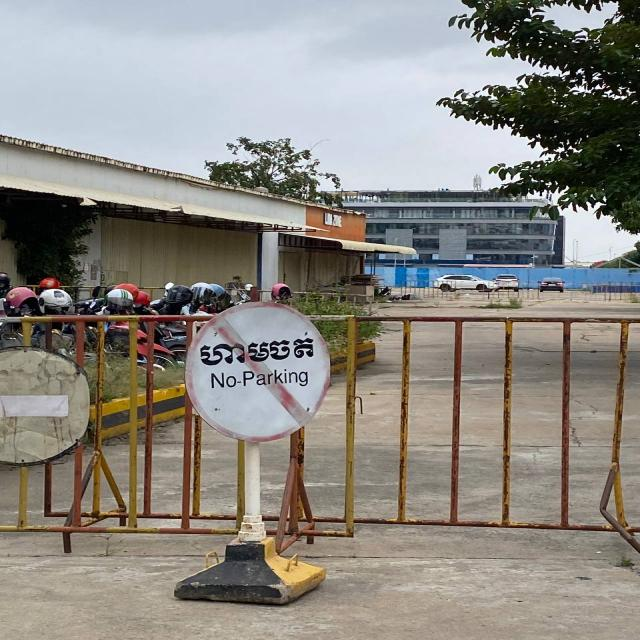Yolov11_80vkh: (197, 330, 321, 372)
